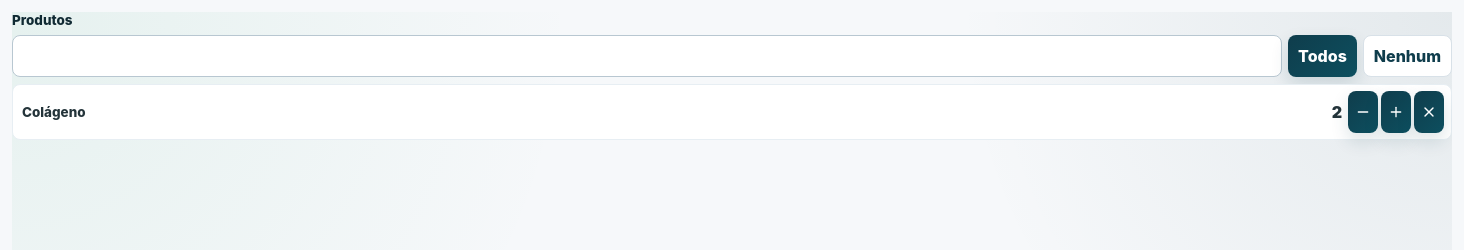
Test: ProductQuantitySelector › clears the selection through the explicit None action
Check: the text "Colágeno" is shown, box [22,104,86,120]
Click the button "Nenhum".
click(1407, 56)  # box [1363,35,1452,77]
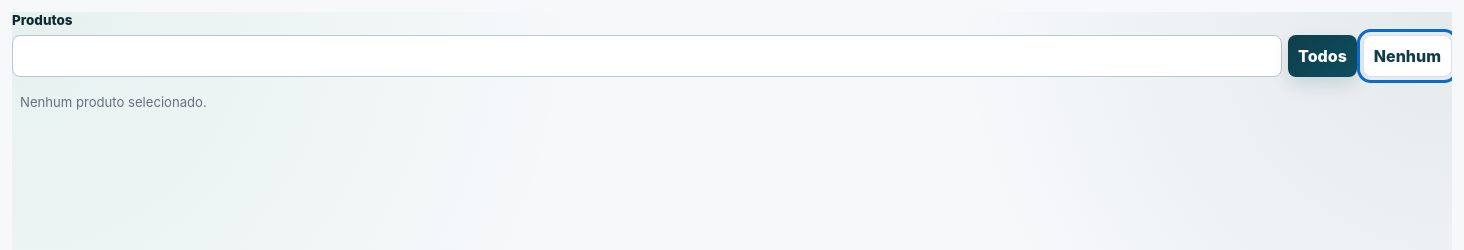
Check: the text "Colágeno" is gone
Check: the text "Nenhum produto selecionado." is shown, box [20,94,207,110]
